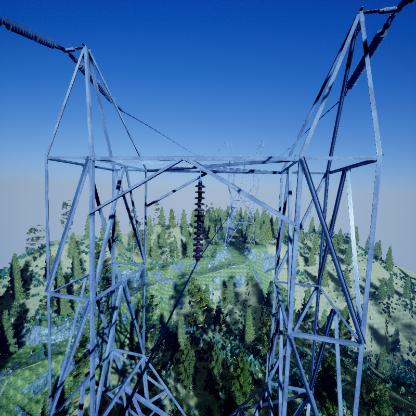insulator: (191, 183, 206, 263)
